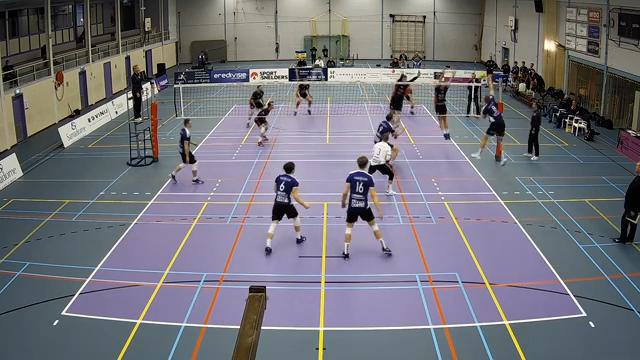Attack: (470, 71, 513, 166)
Block: (383, 66, 425, 132), (431, 64, 456, 144)
Player: (341, 156, 390, 259), (265, 162, 309, 254), (170, 118, 203, 183), (368, 132, 395, 195), (374, 113, 403, 143), (254, 101, 273, 146), (246, 85, 263, 127), (294, 83, 312, 115), (405, 86, 414, 114)
ball: (477, 69, 487, 80)
